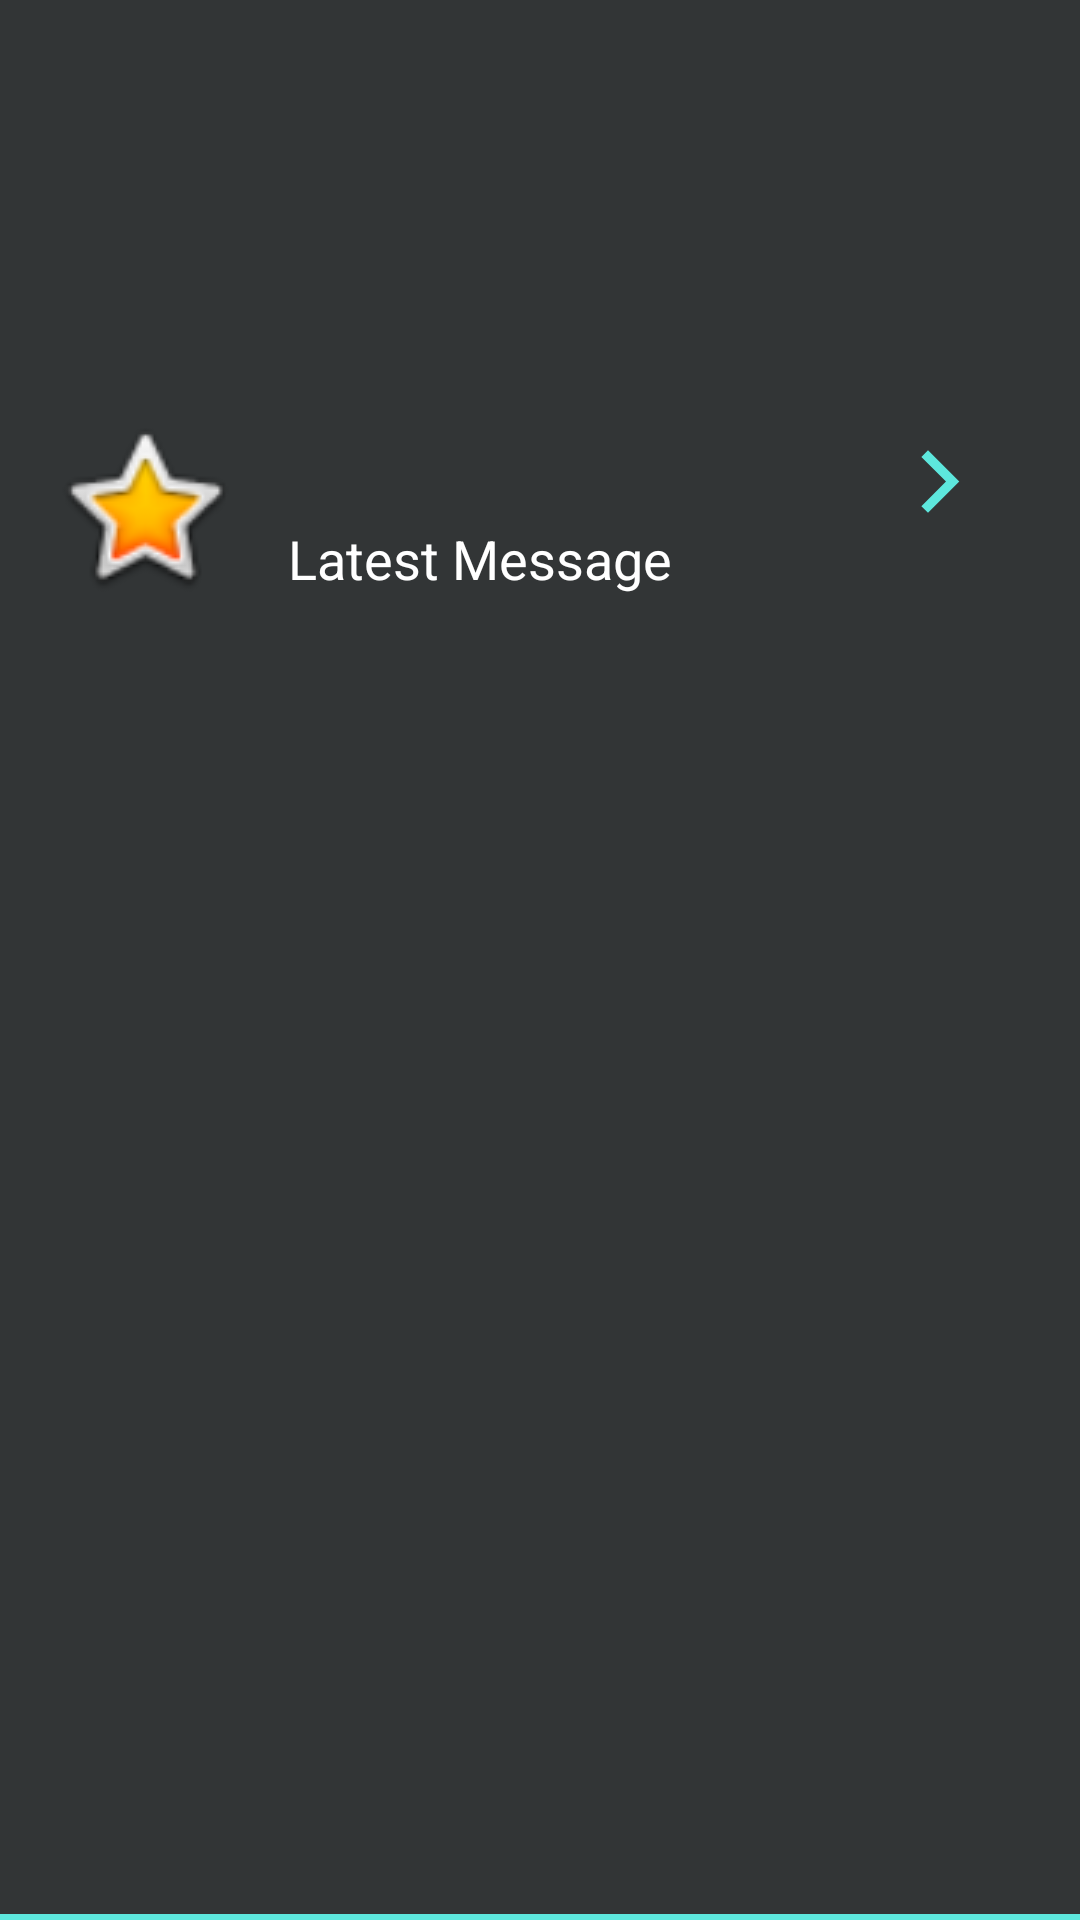

Named icons in this screenshot (1080*1920) and their bounding boxes, (x1=x1, y1=y1, x2=x2, y2=y2):
arrow forward: (x1=921, y1=450, x2=959, y2=513)
star on: (x1=70, y1=434, x2=222, y2=579)
